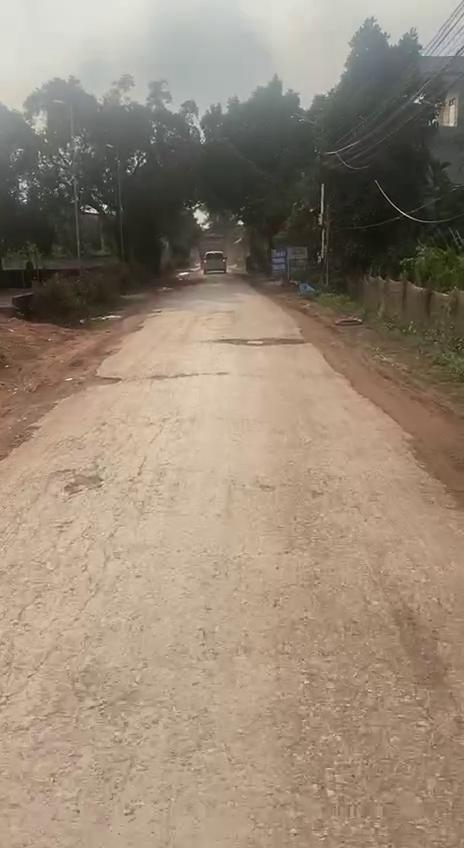pothole: (219, 330, 310, 348)
